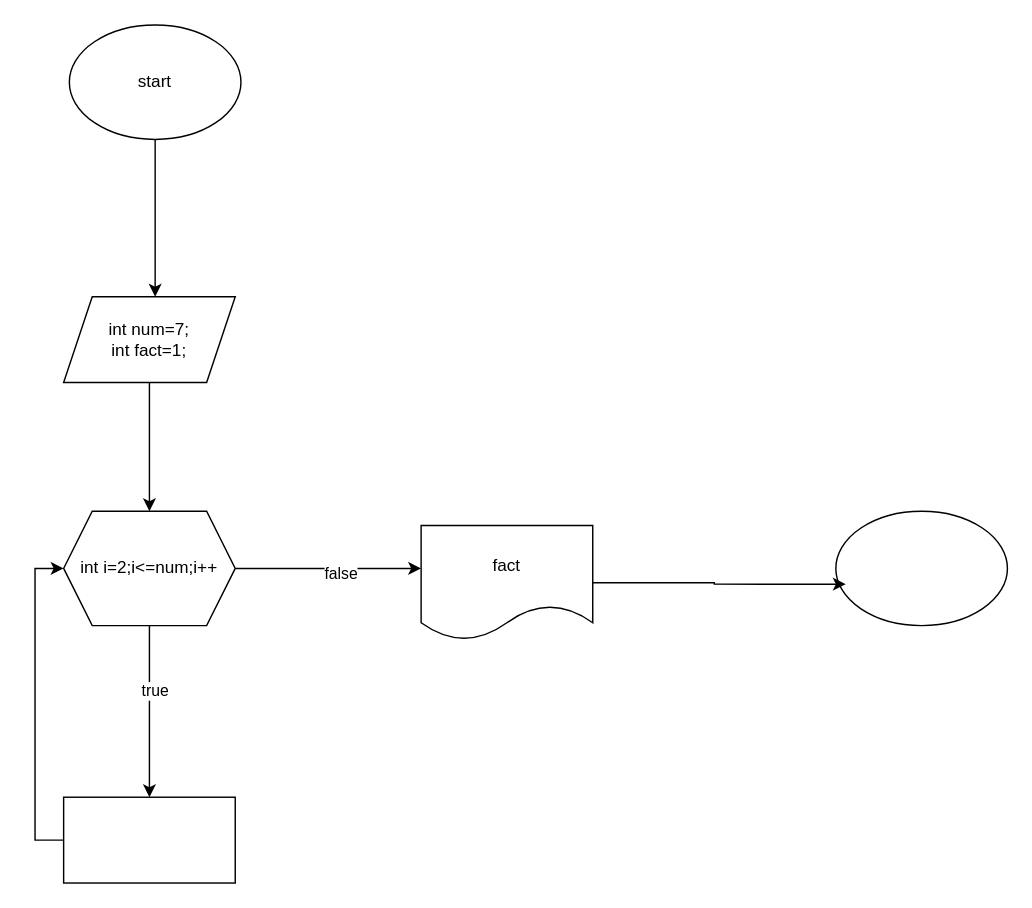
This 1032x908 diagram has some shape labels left out. The box of each missing label's shape, as (x1, y1, x2, y2) in pixels:
end: (834, 510, 1007, 626)
fact=fact*i;: (62, 796, 235, 883)
